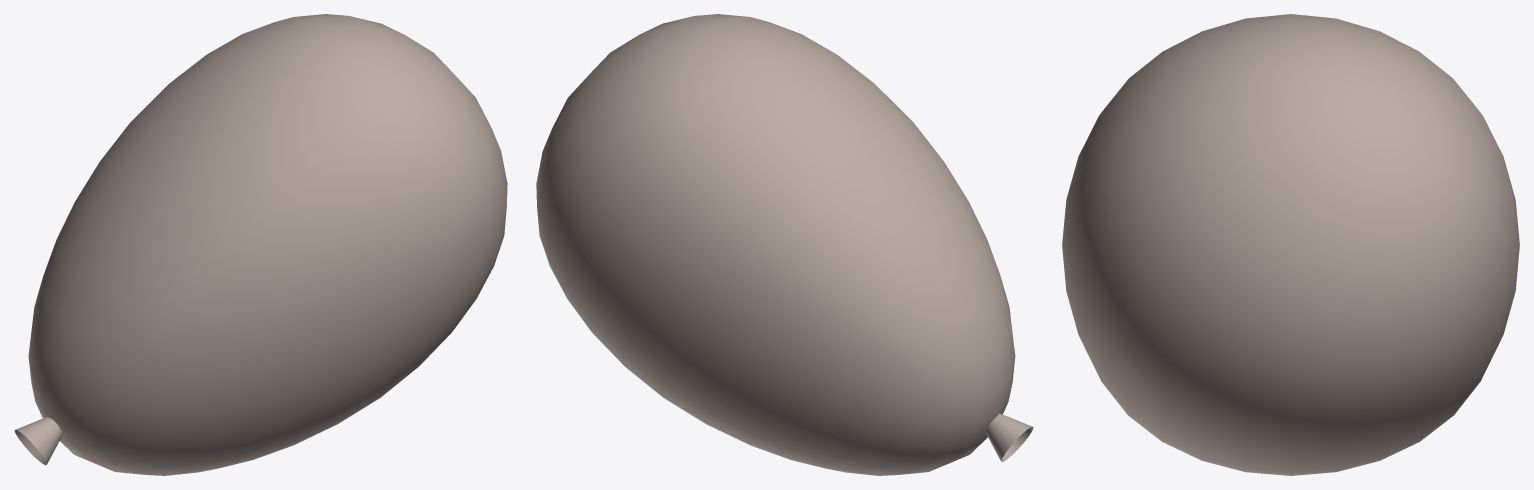
File: globo5.fbx
3 views of the same model, side by side, from view 1: azimuth 30°, elevation 25°; view 2: azimuth 150°, elevation 25°; view 3: azimuth 270°, elevation 25° (orthographic). The views are drawn at different scales.
Parts seen in each view (by area): view 1: pCube16, pCylinder15; view 2: pCube16, pCylinder15; view 3: pCube16.
Part boxes in pixels (<box>): pCube16: <box>28,14,507,475</box>; pCylinder15: <box>14,417,62,465</box>; pCube16: <box>536,14,1015,475</box>; pCylinder15: <box>986,413,1033,461</box>; pCube16: <box>1062,14,1519,475</box>.
Size of the model in its own units: 2.47 by 2 by 1.71.
